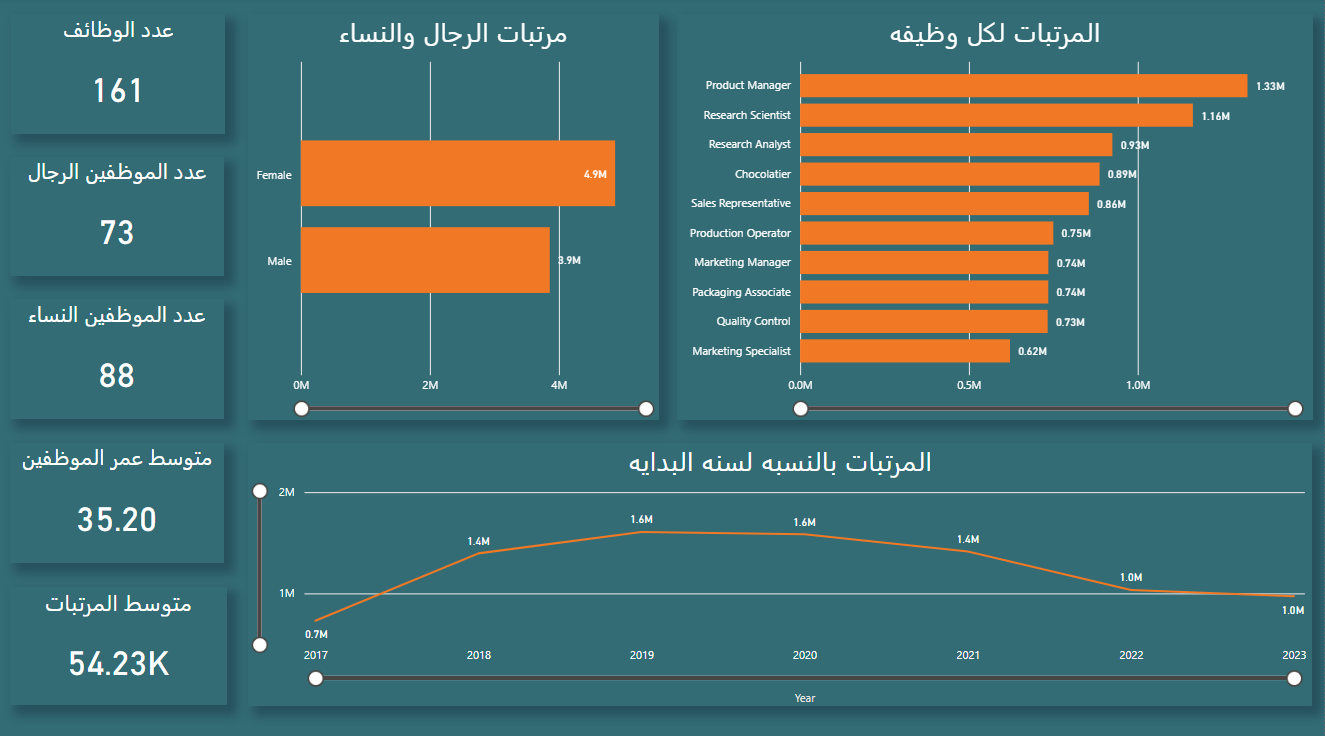

Layout of this report page (visuals, bound fields, positions):
{"tool":"powerbi","page":{"name":"Page 1","canvas":[1280,720],"ordinal":0},"visuals":[{"type":"card","title":"متوسط عمر الموظفين","fields":{"Values":["Avg(hr_data.Age)"]},"box":[12.1,429.5,207.5,115.8],"z":0},{"type":"card","title":"متوسط المرتبات","fields":{"Values":["Avg(hr_data.Salary)"]},"box":[12.1,568.2,209.9,114.6],"z":1},{"type":"card","title":"عدد الوظائف","fields":{"Values":["CountNonNull(hr_data.Job Title)"]},"box":[13.7,15.1,207.2,115.3],"z":2},{"type":"card","title":"عدد الموظفين الرجال","fields":{"Values":["CountNonNull(hr_data.Custom)"]},"box":[12.3,153.7,207.2,115.3],"z":3},{"type":"card","title":"عدد الموظفين النساء","fields":{"Values":["CountNonNull(hr_data.Custom.1)"]},"box":[12.3,290.9,207.2,115.3],"z":4},{"type":"lineChart","title":"المرتبات بالنسبه لسنه البدايه","fields":{"Category":["hr_data.Date of Join.Variation.Date Hierarchy.Year","hr_data.Date of Join.Variation.Date Hierarchy.Quarter","hr_data.Date of Join.Variation.Date Hierarchy.Month","hr_data.Date of Join.Variation.Date Hierarchy.Day"],"Y":["Sum(hr_data.Salary)"]},"box":[242.9,429.5,1026.4,253.9],"z":5},{"type":"barChart","title":"مرتبات الرجال والنساء","fields":{"Category":["hr_data.Gender"],"Y":["Sum(hr_data.Salary)"]},"box":[242.9,15.1,396.6,391.1],"z":6},{"type":"barChart","title":"المرتبات لكل وظيفه","fields":{"Category":["hr_data.Job Title"],"Y":["Sum(hr_data.Salary)"]},"box":[655.9,15.1,613.4,391.1],"z":7}]}

Visuals, with their boxes in screenshot pixels (x1, y1, x2, y2), scaled from the page's 1280x720 canvas onto the 1325x736 screenshot:
"متوسط عمر الموظفين" card: (x1=13, y1=439, x2=227, y2=557)
"متوسط المرتبات" card: (x1=13, y1=581, x2=230, y2=698)
"عدد الوظائف" card: (x1=14, y1=15, x2=229, y2=133)
"عدد الموظفين الرجال" card: (x1=13, y1=157, x2=227, y2=275)
"عدد الموظفين النساء" card: (x1=13, y1=297, x2=227, y2=415)
"المرتبات بالنسبه لسنه البدايه" lineChart: (x1=251, y1=439, x2=1314, y2=699)
"مرتبات الرجال والنساء" barChart: (x1=251, y1=15, x2=662, y2=415)
"المرتبات لكل وظيفه" barChart: (x1=679, y1=15, x2=1314, y2=415)
